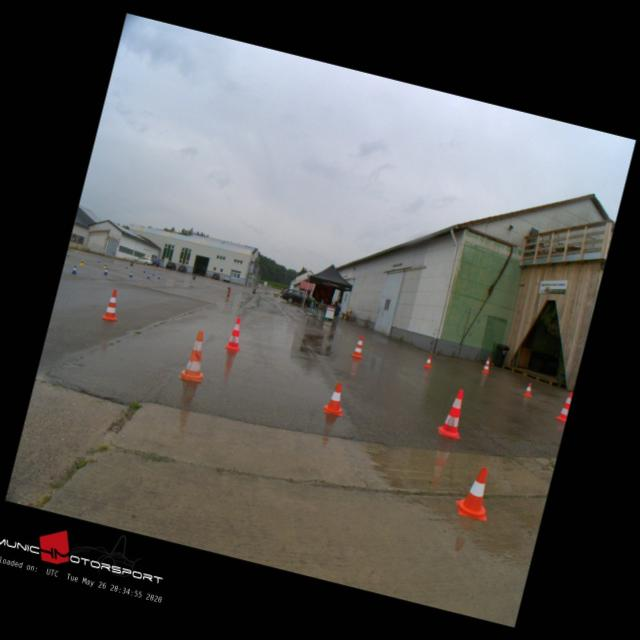blue_cone: (71, 264, 78, 274), (128, 270, 133, 278), (103, 267, 108, 274), (146, 272, 150, 278), (157, 272, 161, 278)
large_orange_cone: (178, 328, 214, 382), (436, 386, 470, 438), (102, 287, 124, 322), (224, 316, 246, 351), (554, 389, 572, 422), (351, 332, 367, 357), (482, 355, 492, 373)
orange_cone: (453, 462, 497, 520), (321, 380, 348, 415), (522, 381, 534, 396), (424, 354, 434, 368)
yellow_cone: (102, 262, 108, 268), (79, 258, 84, 265)
